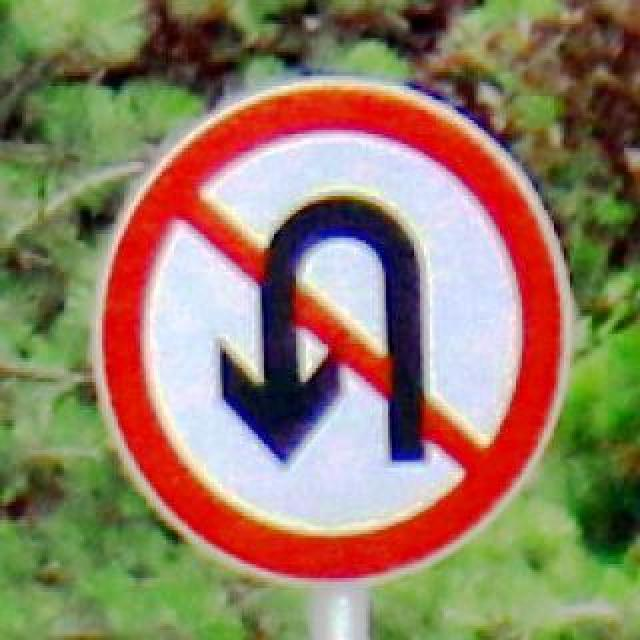no u turn: (90, 70, 570, 582)
